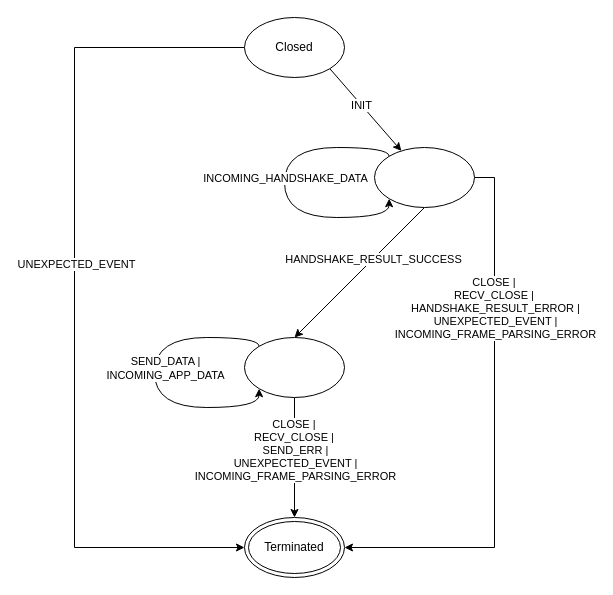
Image size: 613x595. Some labels were removed from this diagram. Here are the shapes that lost their labels. From the top down, the centre of each, then its label:
At (424,177): "Connecting".
At (294,367): "Connected".
